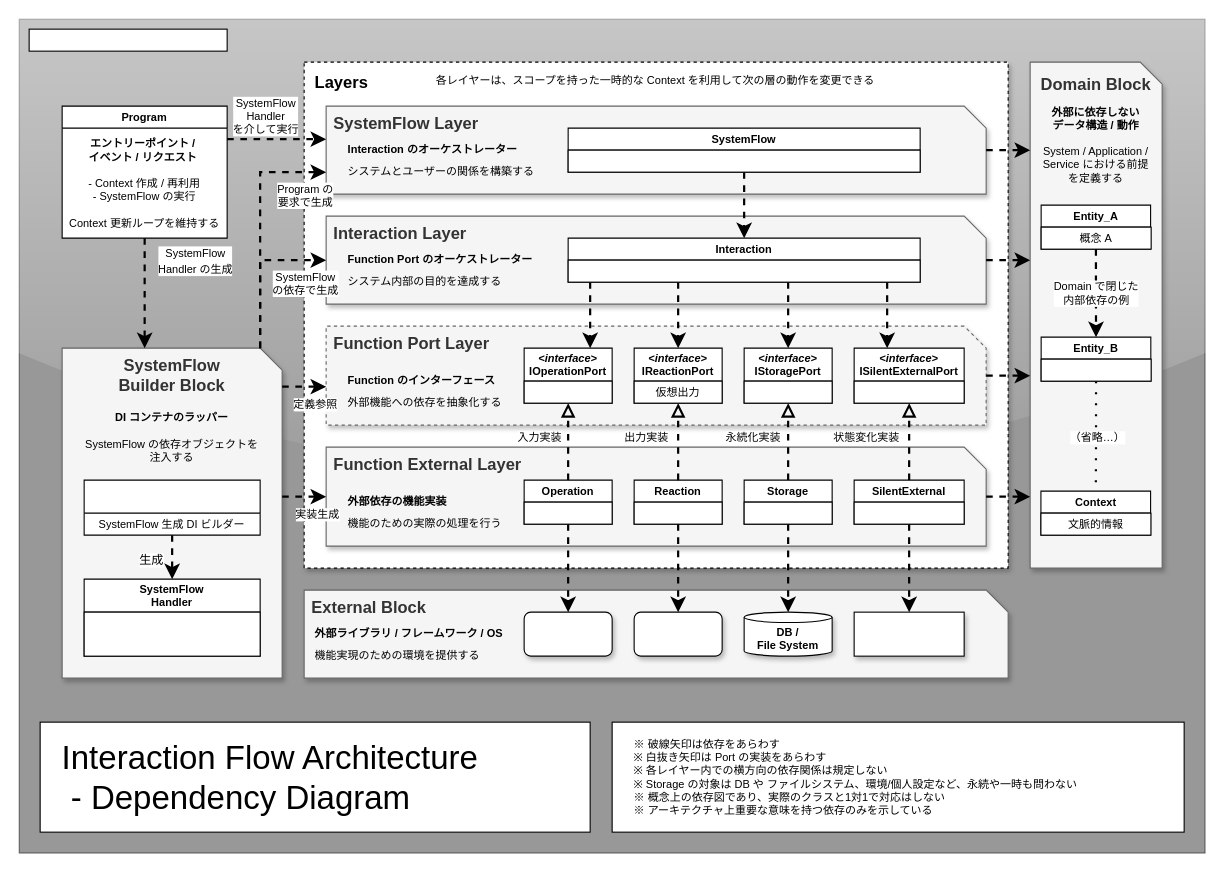
Some shapes in this 1224 by 872 pixel diagram are drawn without their labels. Here are the shapes that lost their labels. From the top down, the centre of each, then its label:
point (127, 39): version 3.8 2026.07.14
point (743, 160): Interaction を組み合わせてユーザーへの反応プロセスをフロー化
point (743, 270): Function Port を組み合わせてシステムの目的をフロー化
point (1095, 369): 概念 B
point (567, 391): 仮想入力
point (787, 391): 仮想永続化
point (908, 391): 仮想状態変化
point (171, 507): SystemFlow Builder
point (567, 512): 入力実体
point (677, 512): 出力実体
point (787, 512): 永続化実体
point (908, 512): 状態変化実体
point (171, 633): 生成済み DI スコープ + 生成済み SystemFlow
point (569, 635): Input
point (679, 635): Output
point (910, 635): 外部イベント / 外部プロパティ
